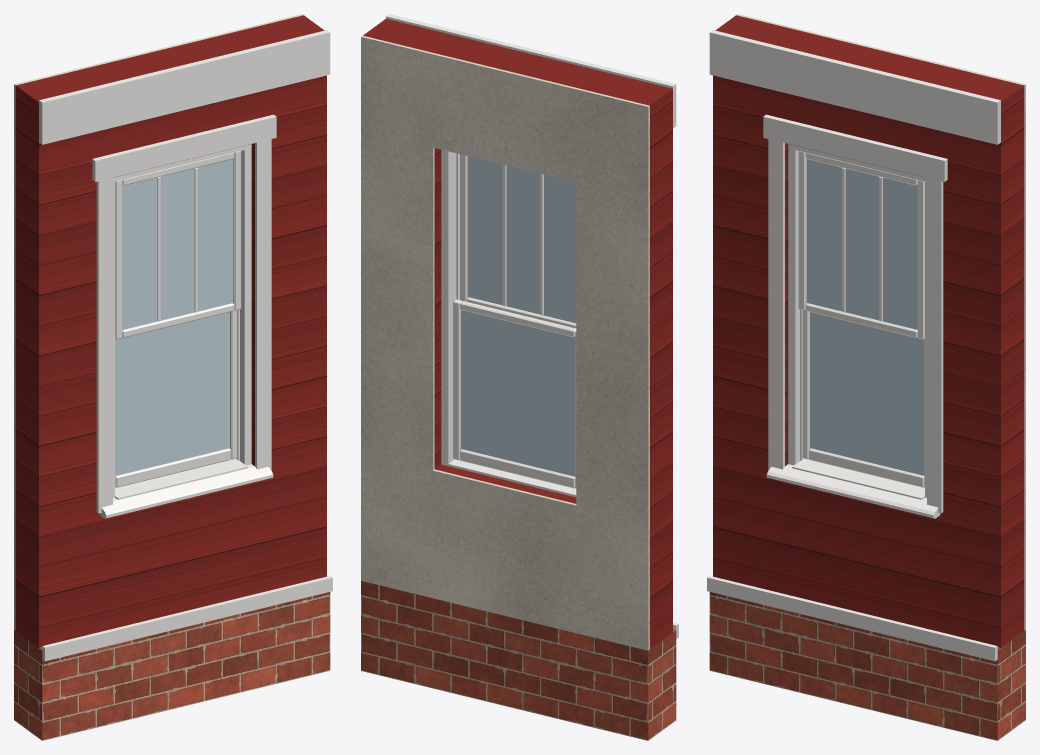
Rendered from school_wall_window.glb.
3 renders of one model, left to right at view 1: azimuth 30°, elevation 25°; view 2: azimuth 150°, elevation 25°; view 3: azimuth 330°, elevation 25°, orthographic.
Visible parts, largest first — view 1: school_wall_window_siding, school_wall_window_trim, school_wall_window_glass, school_wall_window_brick, school_wall_window_sash, school_wall_window_frame, school_wall_window_plaster; view 2: school_wall_window_plaster, school_wall_window_glass, school_wall_window_brick, school_wall_window_siding, school_wall_window_sash, school_wall_window_frame, school_wall_window_trim; view 3: school_wall_window_siding, school_wall_window_trim, school_wall_window_glass, school_wall_window_brick, school_wall_window_sash, school_wall_window_frame, school_wall_window_plaster.
Part boxes in pixels (box(x1,y1,x2,y2)): school_wall_window_siding: box(15, 15, 326, 647); school_wall_window_trim: box(39, 30, 332, 661); school_wall_window_glass: box(115, 159, 233, 475); school_wall_window_brick: box(14, 592, 330, 740); school_wall_window_sash: box(115, 151, 241, 487); school_wall_window_frame: box(113, 144, 251, 497); school_wall_window_plaster: box(14, 14, 303, 630); school_wall_window_plaster: box(361, 36, 649, 650); school_wall_window_glass: box(461, 156, 576, 476); school_wall_window_brick: box(361, 581, 676, 740); school_wall_window_siding: box(363, 18, 672, 649); school_wall_window_sash: box(453, 154, 576, 488); school_wall_window_frame: box(441, 149, 459, 465); school_wall_window_trim: box(386, 14, 678, 638); school_wall_window_siding: box(713, 15, 1024, 647); school_wall_window_trim: box(707, 30, 1000, 661); school_wall_window_glass: box(806, 159, 924, 475); school_wall_window_brick: box(709, 592, 1025, 740); school_wall_window_sash: box(798, 151, 924, 487); school_wall_window_frame: box(788, 144, 926, 497); school_wall_window_plaster: box(736, 14, 1025, 630).
Bounding box in the file's own units: 2 × 4.24 × 0.38.
Materials: 7 (3 with a texture image).
